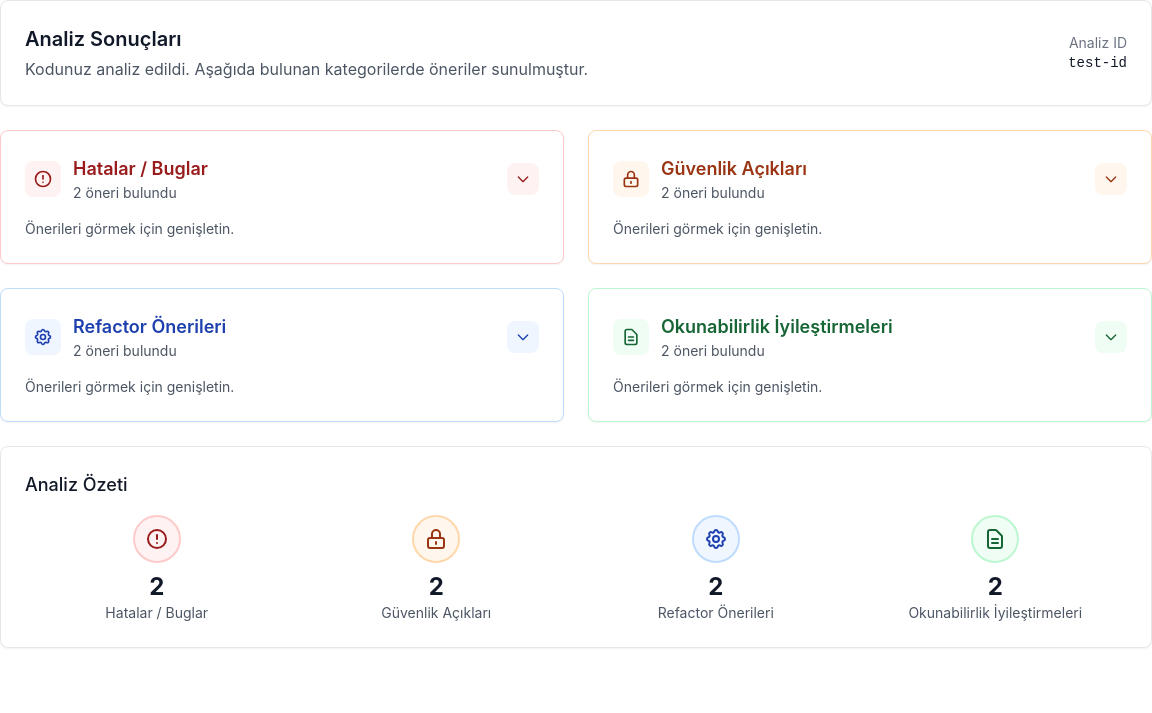
AnalysisResults Component › shows security suggestions when expanded
Note: Expand security section
Click the 2nd button at (1111, 179), box [1095,163,1127,195]
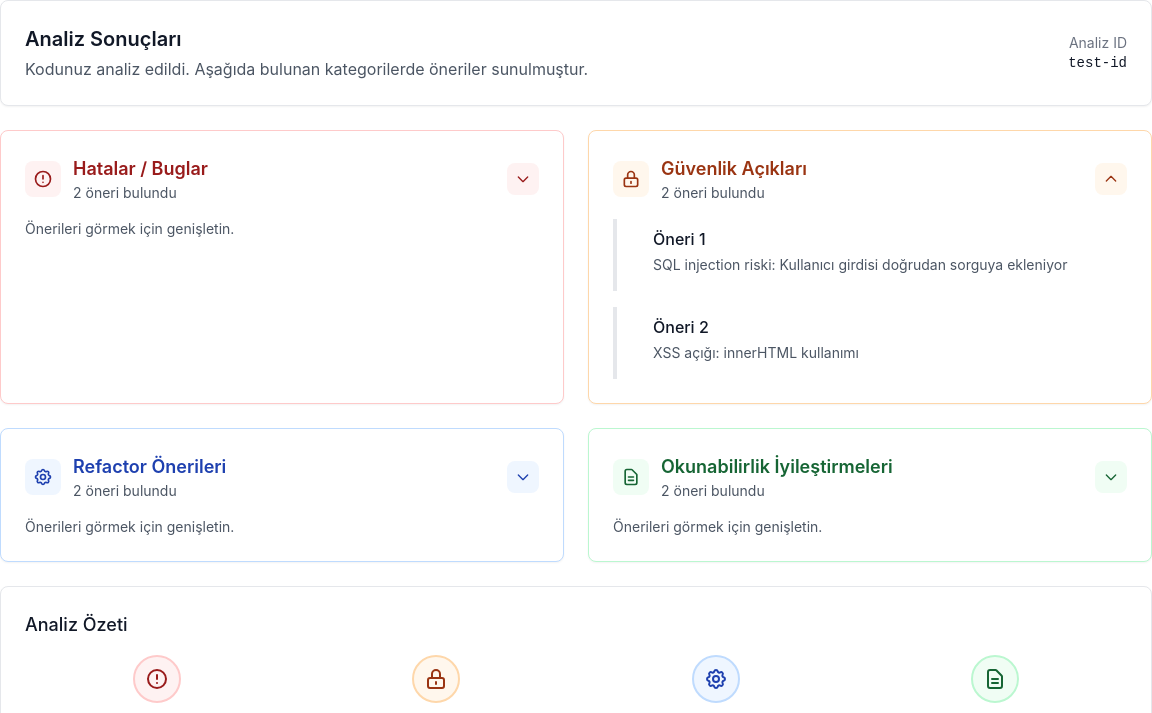
expect the text "SQL injection riski" is shown: met, box [653,256,1068,273]
expect the text "XSS açığı: innerHTML kullanımı" is shown: met, box [653,344,859,361]
